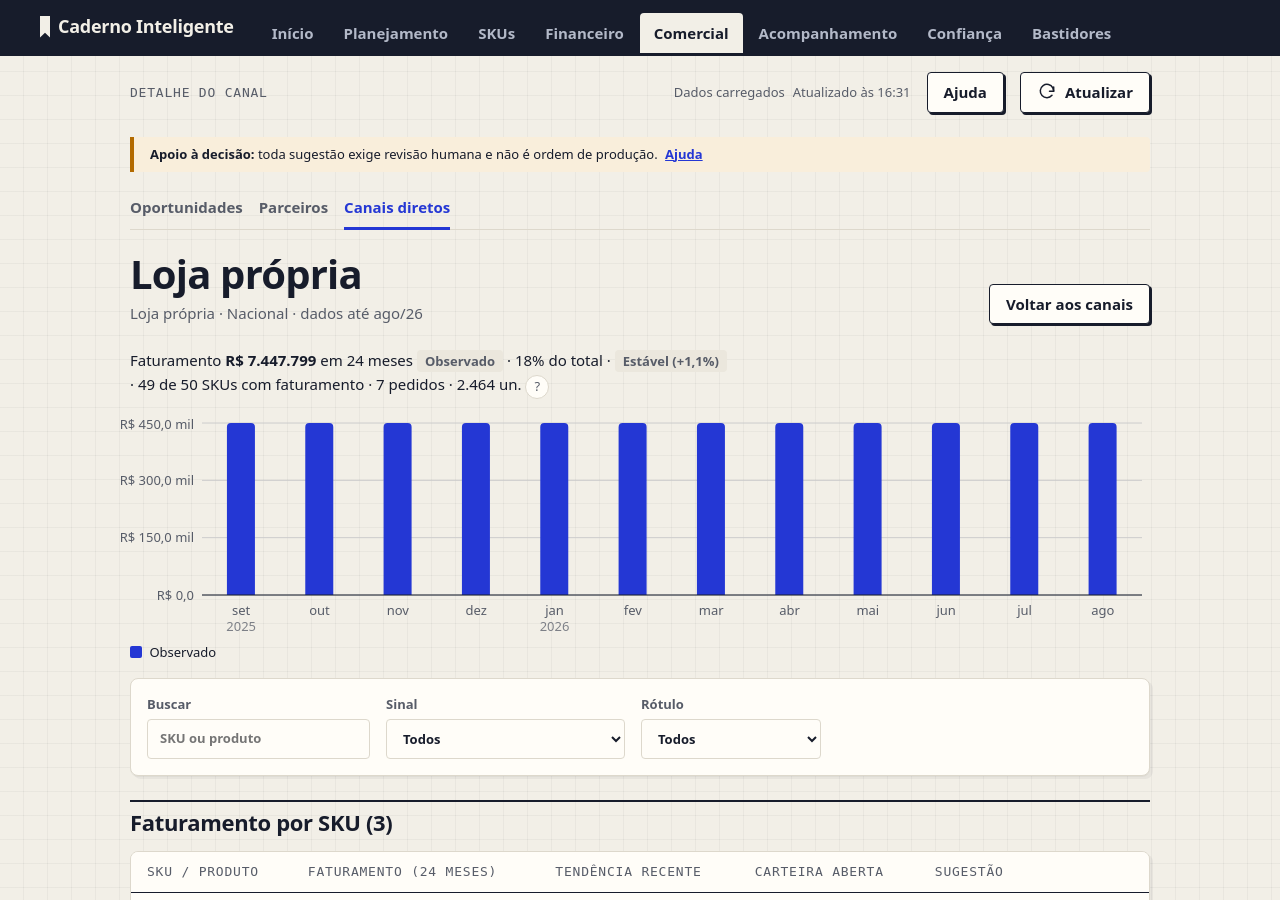
Test: Detalhe do canal › o filtro de sinal vai para a URL e para a API
Select "Sem faturamento no canal (1)" in the dropdown labelled "Sinal" at (506, 739), box x1=386 y1=719 x2=625 y2=759
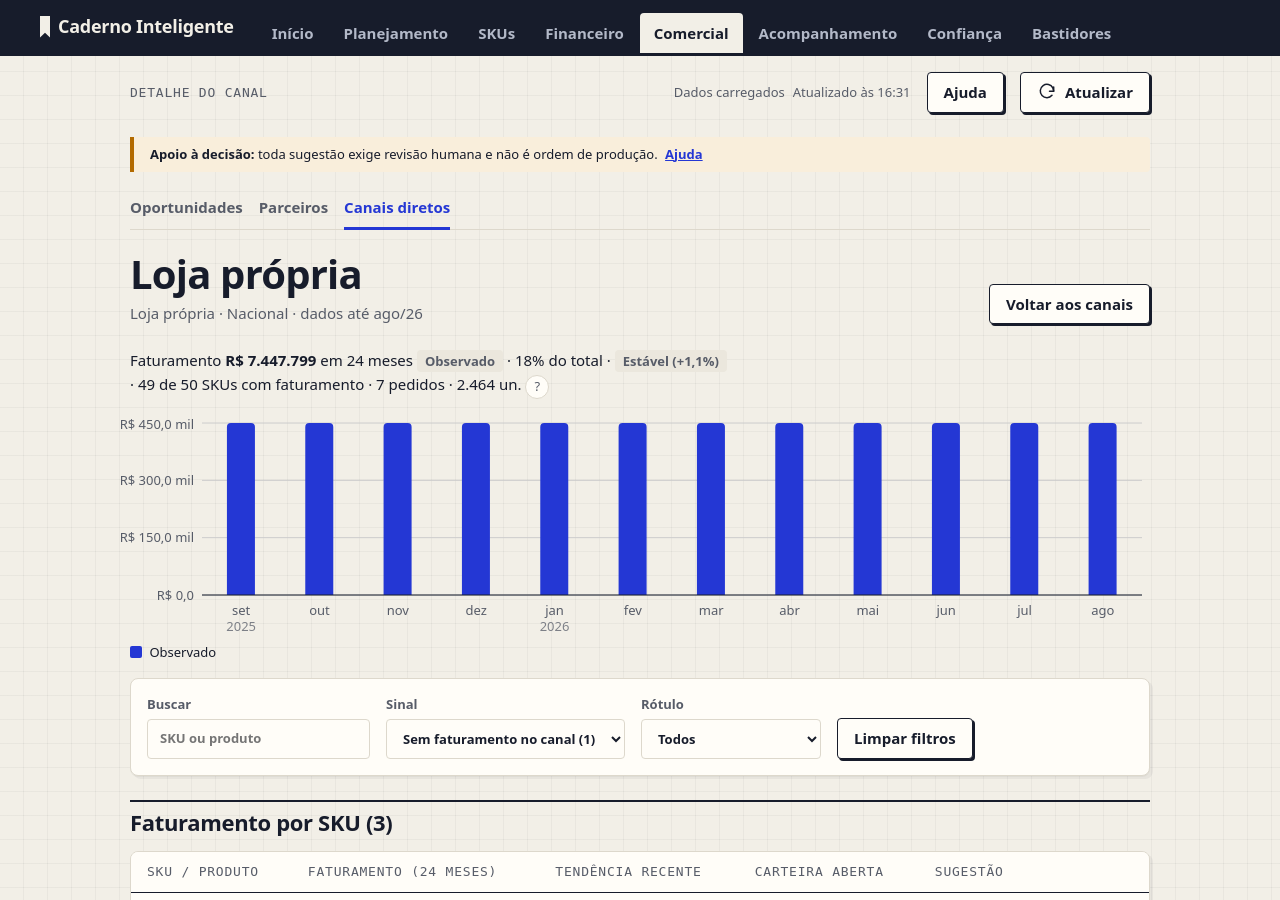
Expected: the dropdown labelled "Sinal" shows "Sem faturamento no canal (1)", x1=386 y1=719 x2=625 y2=759
